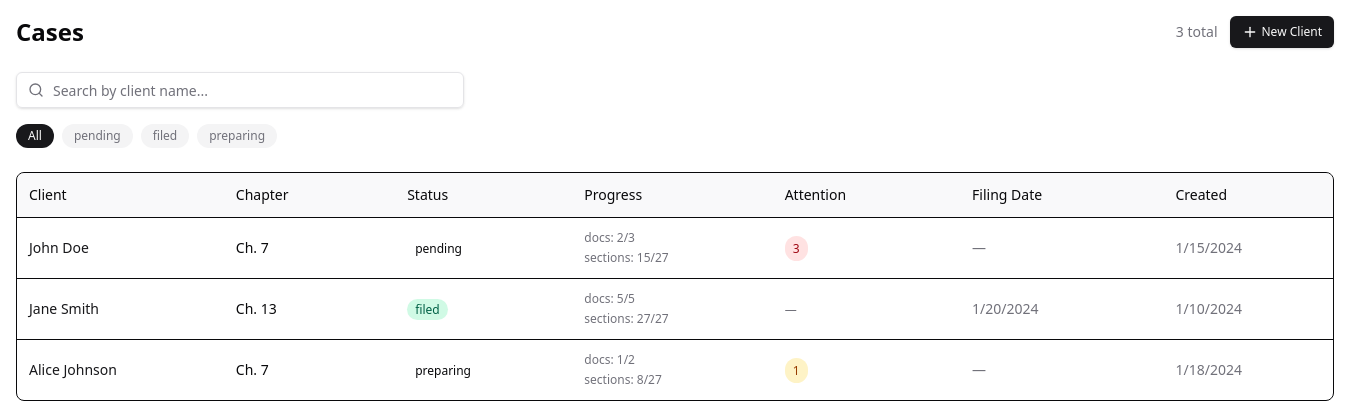
Scenario: StaffDashboard › should filter cases by status
Check: the link "John Doe" is shown, box [29,238,89,257]
Click the button "filed".
click(165, 136)  # box [141,124,189,148]
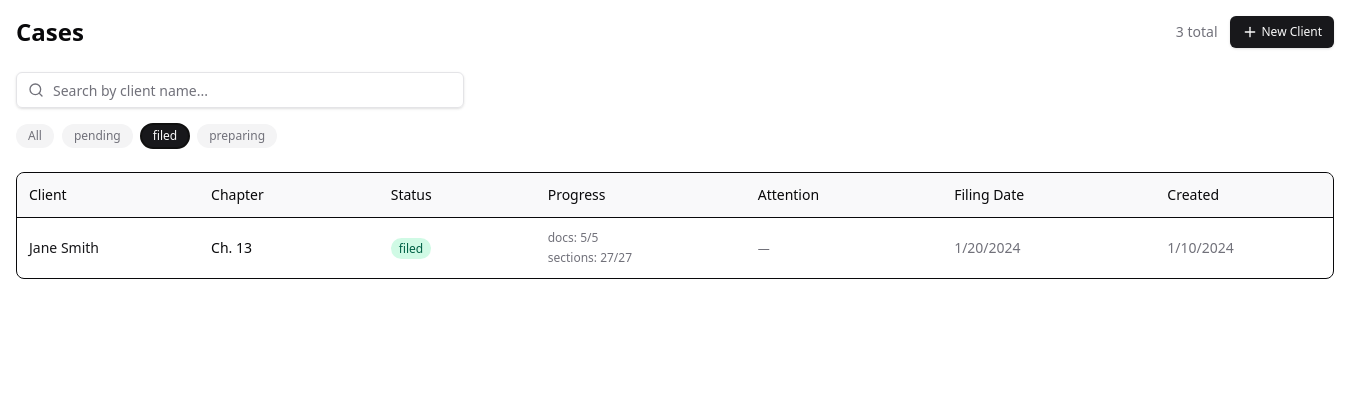
Check: the link "Jane Smith" is shown, box [29,238,99,257]
Check: the link "John Doe" is gone
Check: the link "Alice Johnson" is gone
